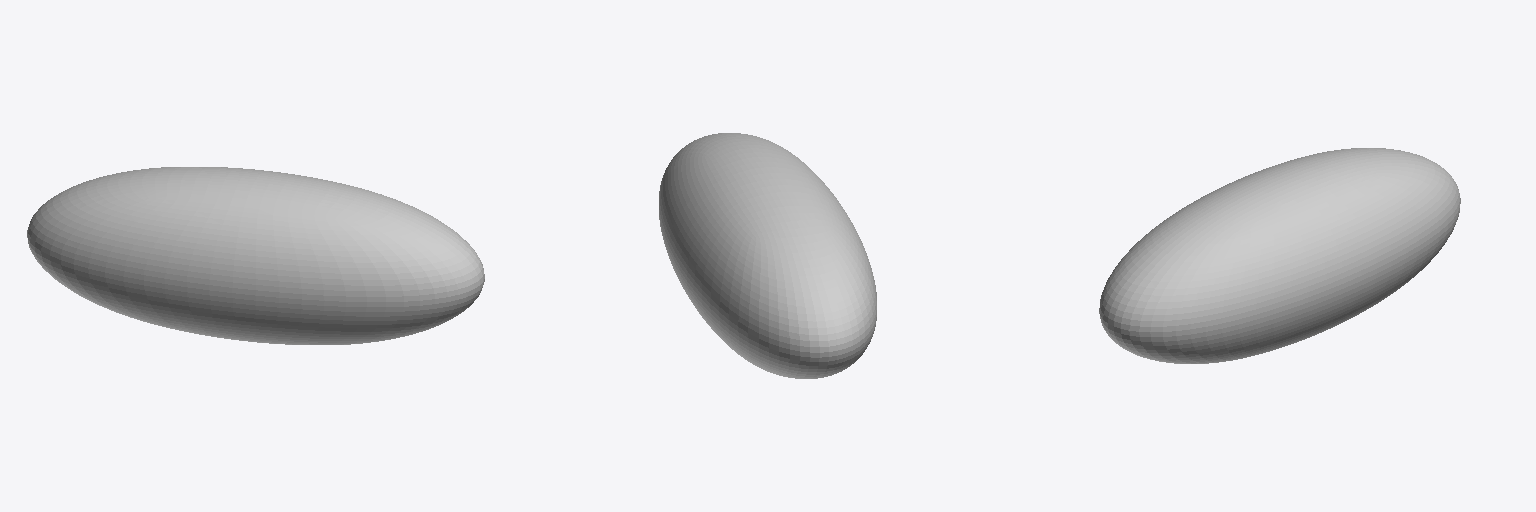
File: nudo1-2.obj
3 renders of one model, left to right at view 1: azimuth 30°, elevation 25°; view 2: azimuth 150°, elevation 25°; view 3: azimuth 270°, elevation 25°, orthographic.
Parts seen in each view (by area): view 1: nudo1_2_Mesh; view 2: nudo1_2_Mesh; view 3: nudo1_2_Mesh.
Part boxes in pixels (bbox=[...]): nudo1_2_Mesh: bbox=[27, 167, 484, 344]; nudo1_2_Mesh: bbox=[659, 133, 876, 378]; nudo1_2_Mesh: bbox=[1099, 148, 1460, 363].
Size of the model in its own units: 0.8203 by 0.3825 by 0.8203.